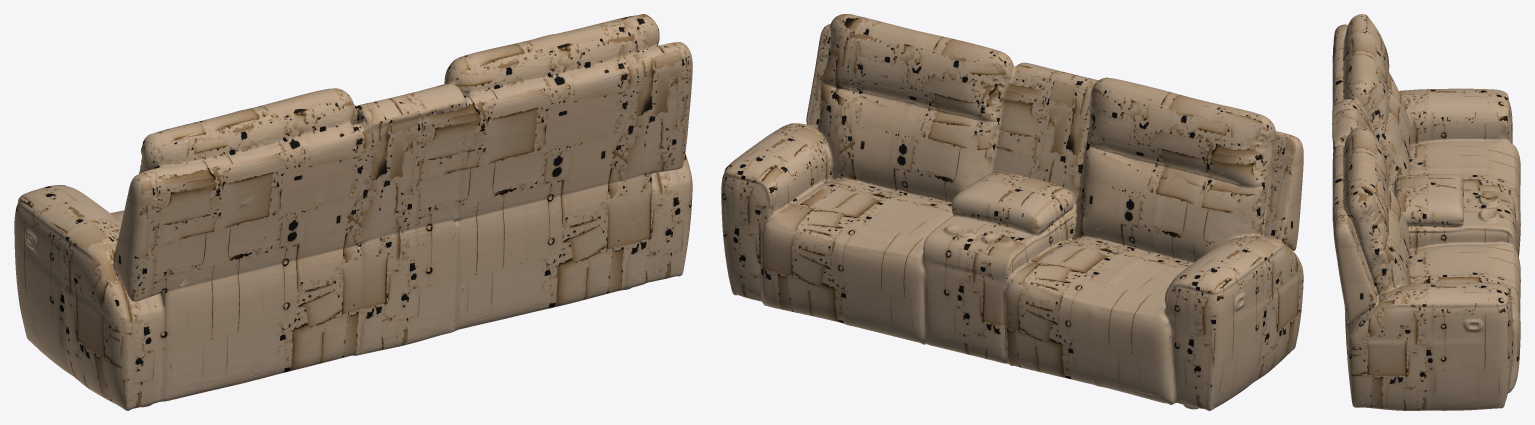
File: drake-3-seater.glb
3 renders of one model, left to right at view 1: azimuth 30°, elevation 25°; view 2: azimuth 150°, elevation 25°; view 3: azimuth 270°, elevation 25°, orthographic. The views are drawn at different scales.
Visible parts, largest first — view 1: Sofa2; view 2: Sofa2; view 3: Sofa2.
Part boxes in pixels (bbox=[...]): Sofa2: bbox=[14, 14, 692, 410]; Sofa2: bbox=[721, 14, 1303, 410]; Sofa2: bbox=[1332, 14, 1520, 410].
Bounding box in the file's own units: 2.23 × 1.03 × 0.8161.
1 material, 1 textured.
